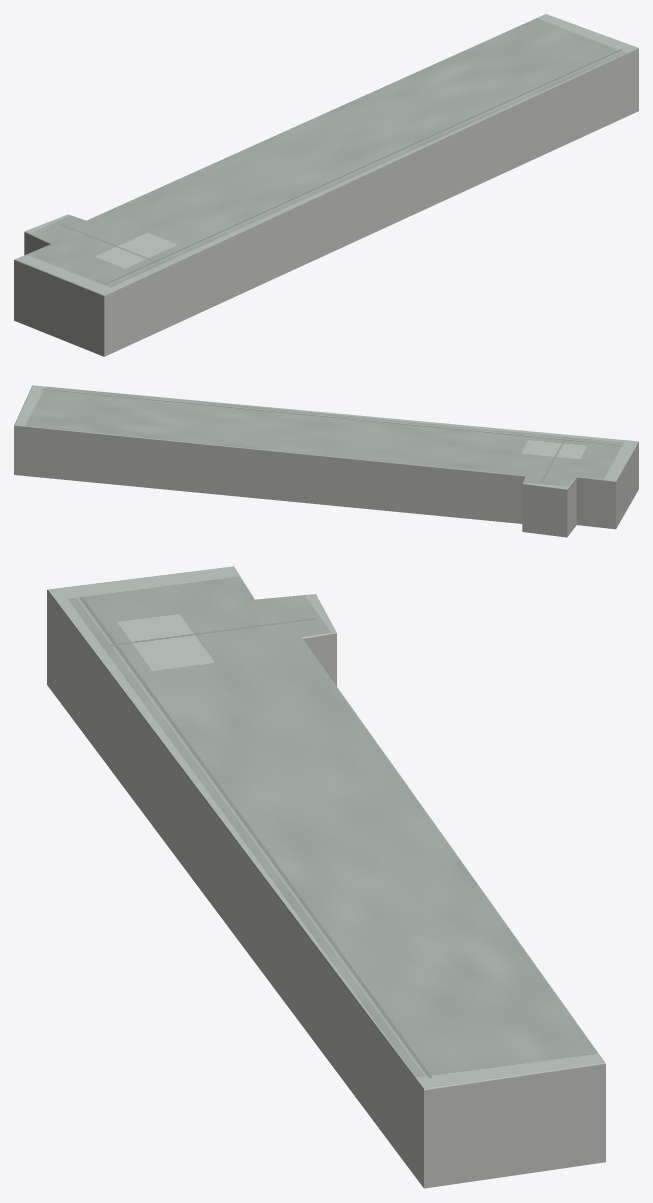
File: intact.glb
3 views of the same model, one above another, from view 1: azimuth 30°, elevation 25°; view 2: azimuth 150°, elevation 25°; view 3: azimuth 270°, elevation 25° (orthographic). The views are drawn at different scales.
Visible parts, largest first — view 1: SM_gh1_Intact_00; view 2: SM_gh1_Intact_00; view 3: SM_gh1_Intact_00.
Boxes of the visible parts, x1,y1,x2,y2 form: SM_gh1_Intact_00: (14, 14, 638, 356); SM_gh1_Intact_00: (14, 385, 638, 537); SM_gh1_Intact_00: (47, 566, 605, 1188).
Size of the model in its own units: 2.2 by 0.1953 by 0.9925.
Materials: 3 (1 with a texture image).
